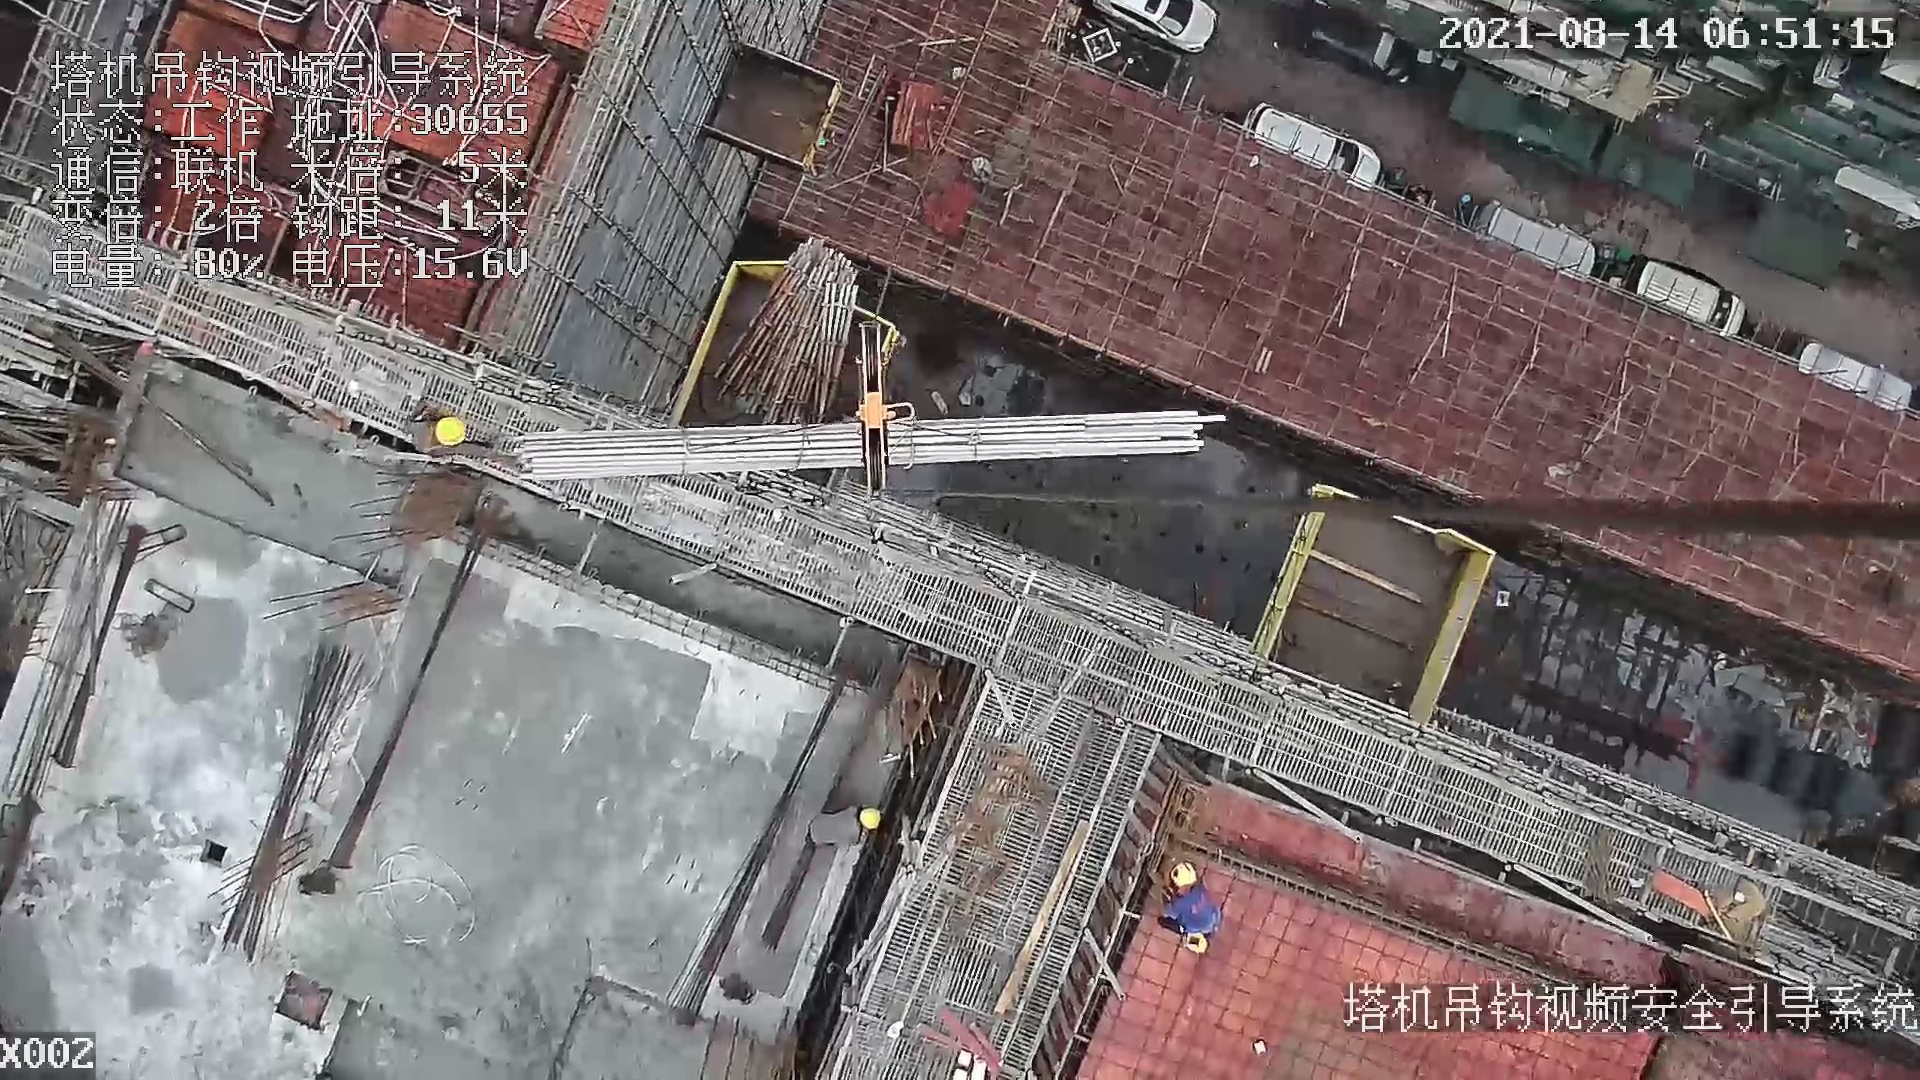helmet: (432, 417, 469, 447), (856, 805, 883, 832), (1171, 858, 1199, 886)
hook: (849, 315, 924, 503)
person: (405, 404, 527, 481), (1151, 856, 1228, 954), (808, 797, 883, 853)
rebar: (515, 409, 1230, 488), (221, 633, 371, 964)
scaffold: (717, 239, 859, 426)
